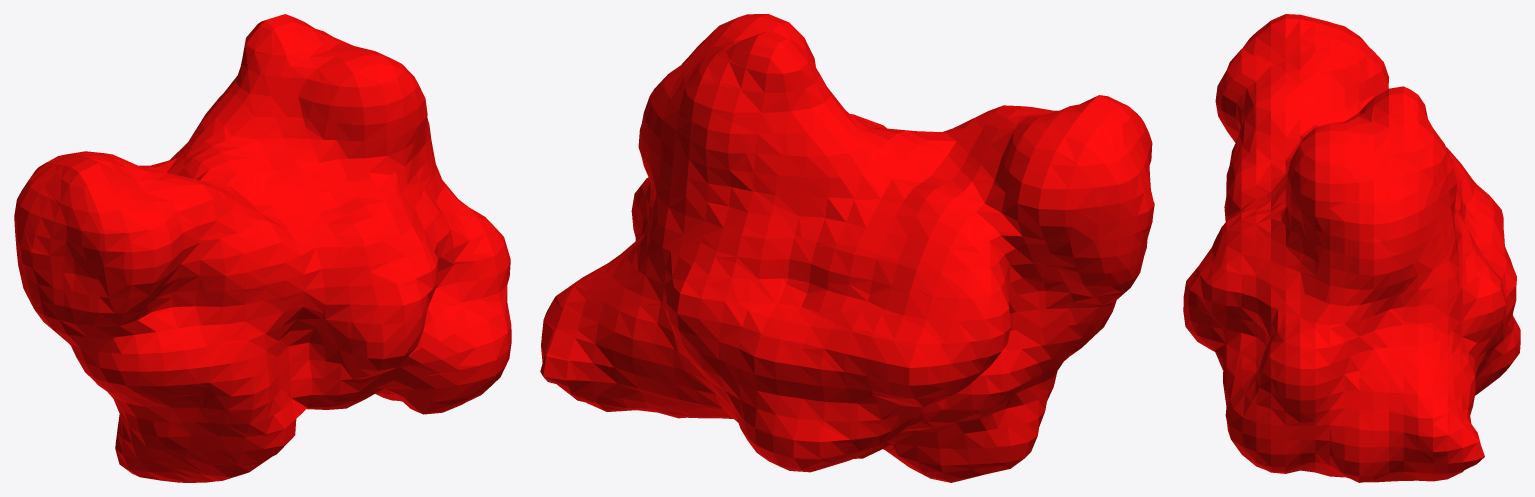
The model's file is ydcJ_coarse.dae.
The picture shows the model from 3 angles, left to right: view 1: azimuth 30°, elevation 25°; view 2: azimuth 150°, elevation 25°; view 3: azimuth 270°, elevation 25°; orthographic projection. The views are drawn at different scales.
Visible parts, largest first — view 1: ydcJ; view 2: ydcJ; view 3: ydcJ.
Part boxes in pixels (x1,y1,x2,y2): ydcJ: [14, 14, 511, 482]; ydcJ: [540, 14, 1154, 482]; ydcJ: [1183, 14, 1520, 482].
Size of the model in its own units: 77.9 by 60.16 by 50.36.
